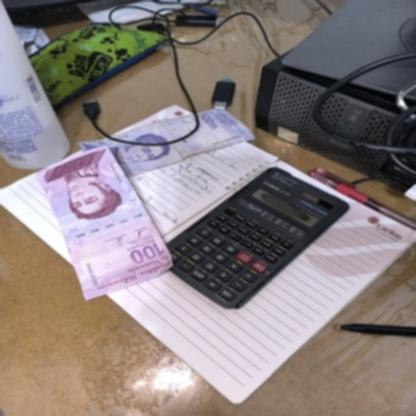one_hundred-front-vef: (35, 144, 174, 301)
